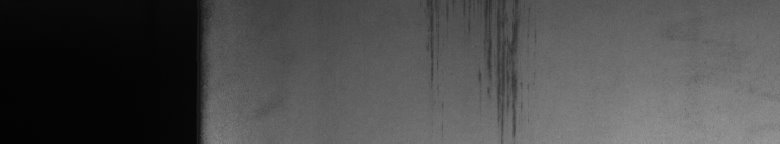ka: (427, 4, 529, 136)
